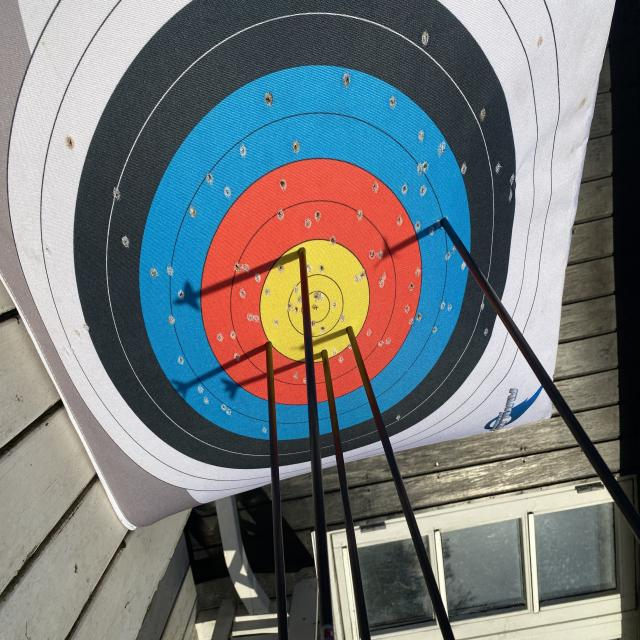Arrow_Blue: (428, 203, 454, 245)
Arrow_Red: (261, 332, 279, 365)
Arrow_Yellow: (290, 236, 320, 270), (336, 316, 362, 350), (316, 339, 332, 368)
